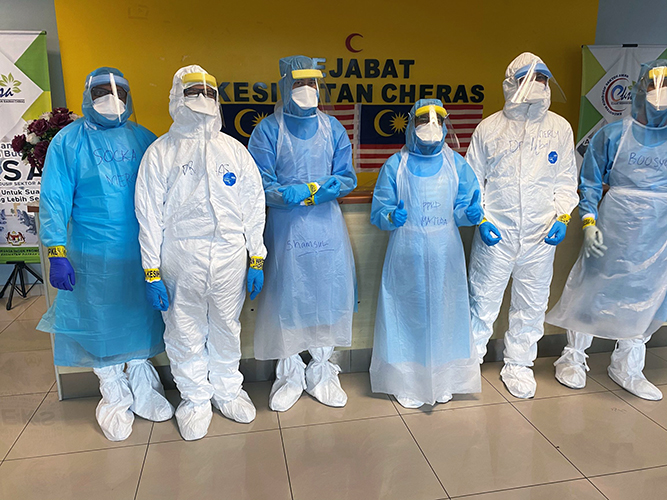Coverall: (43, 67, 169, 404), (139, 62, 264, 395), (474, 52, 574, 358), (260, 59, 354, 377), (571, 65, 667, 372), (377, 102, 472, 386)
Gloves: (47, 254, 77, 296), (580, 224, 608, 260), (463, 183, 487, 222), (145, 280, 170, 314), (278, 183, 313, 205), (478, 220, 504, 248), (387, 199, 411, 229), (542, 220, 568, 247), (246, 265, 265, 300)
with_mask: (91, 96, 129, 126), (185, 95, 218, 125), (417, 118, 447, 150), (520, 82, 549, 110), (291, 85, 321, 111)
